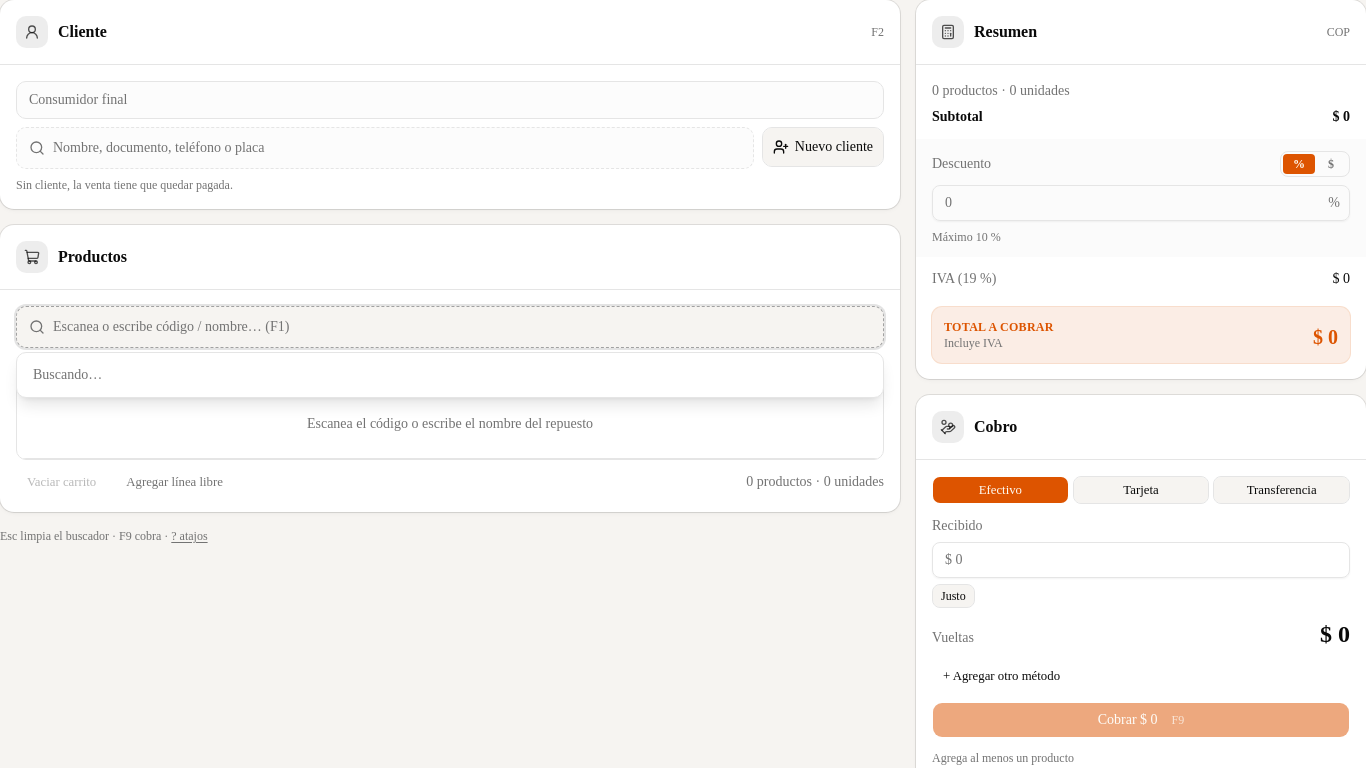
Test case: VenderMostrador › RECEPCION ve su tope y no puede cobrar con un descuento mayor
Type "Filtro" into the dropdown named "Buscar repuesto" at (462, 327), box [53,307,871,347]
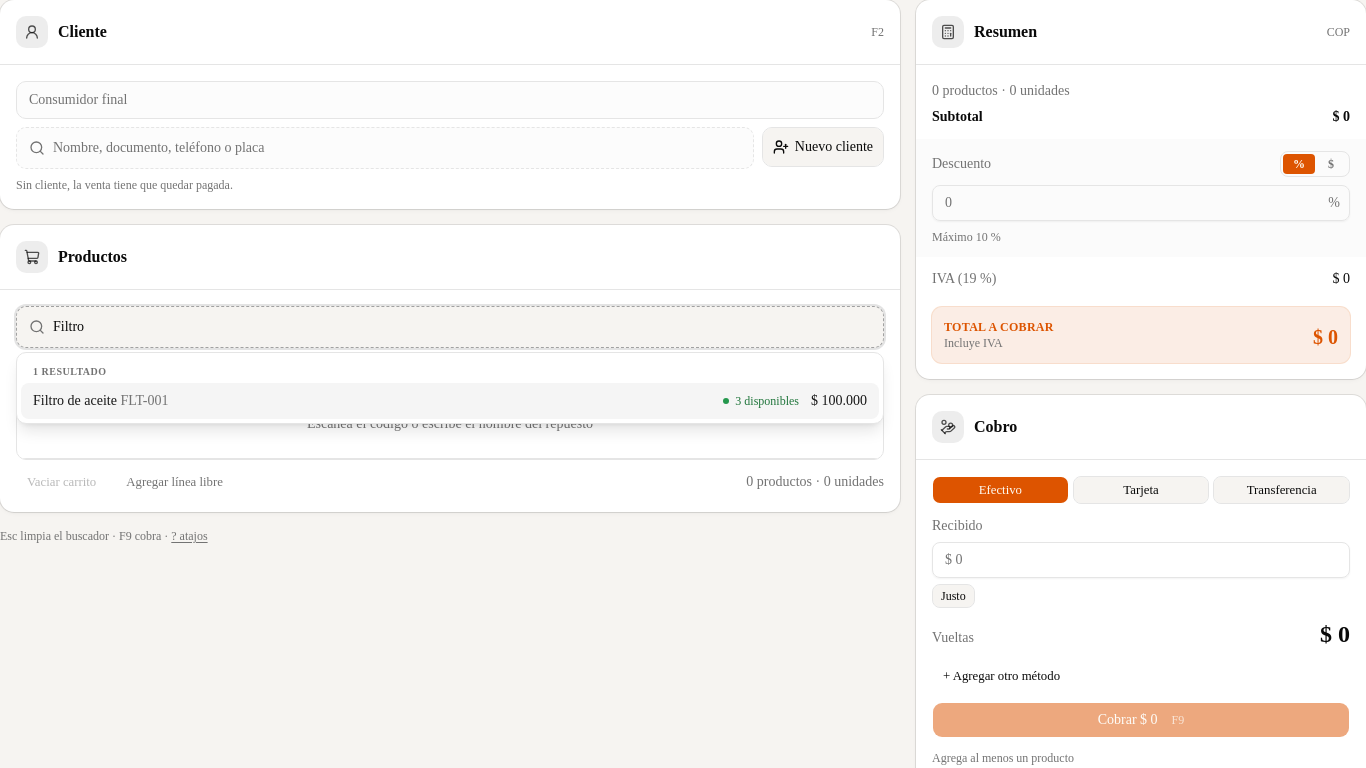
Click the option "Filtro de aceite FLT-001 3 disponibles $ 100.000" at (75, 401), box [21,383,879,419]
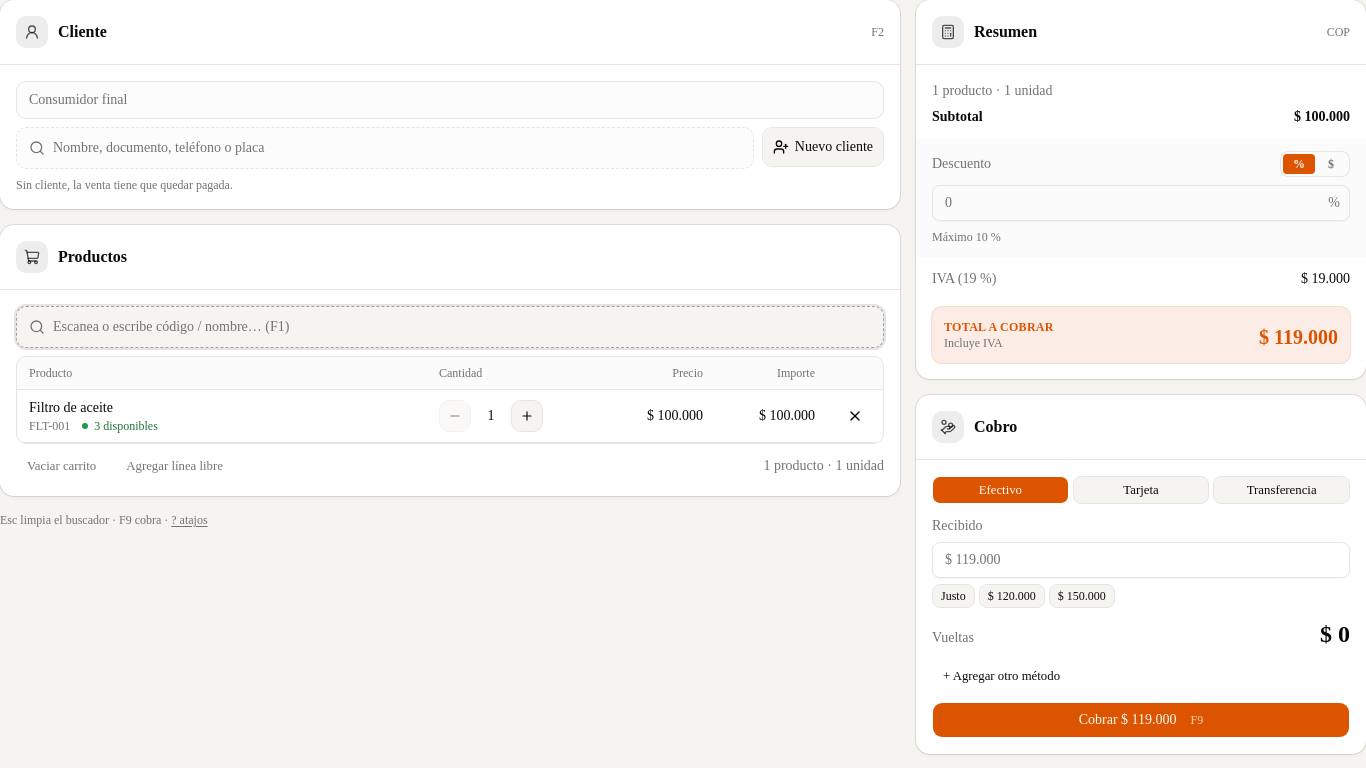
Expected: the text "Máximo 10 %" is shown, [932,230,1001,244]
Type "15" into the number field labelled "Descuento" at (1141, 203), box [932,185,1350,221]
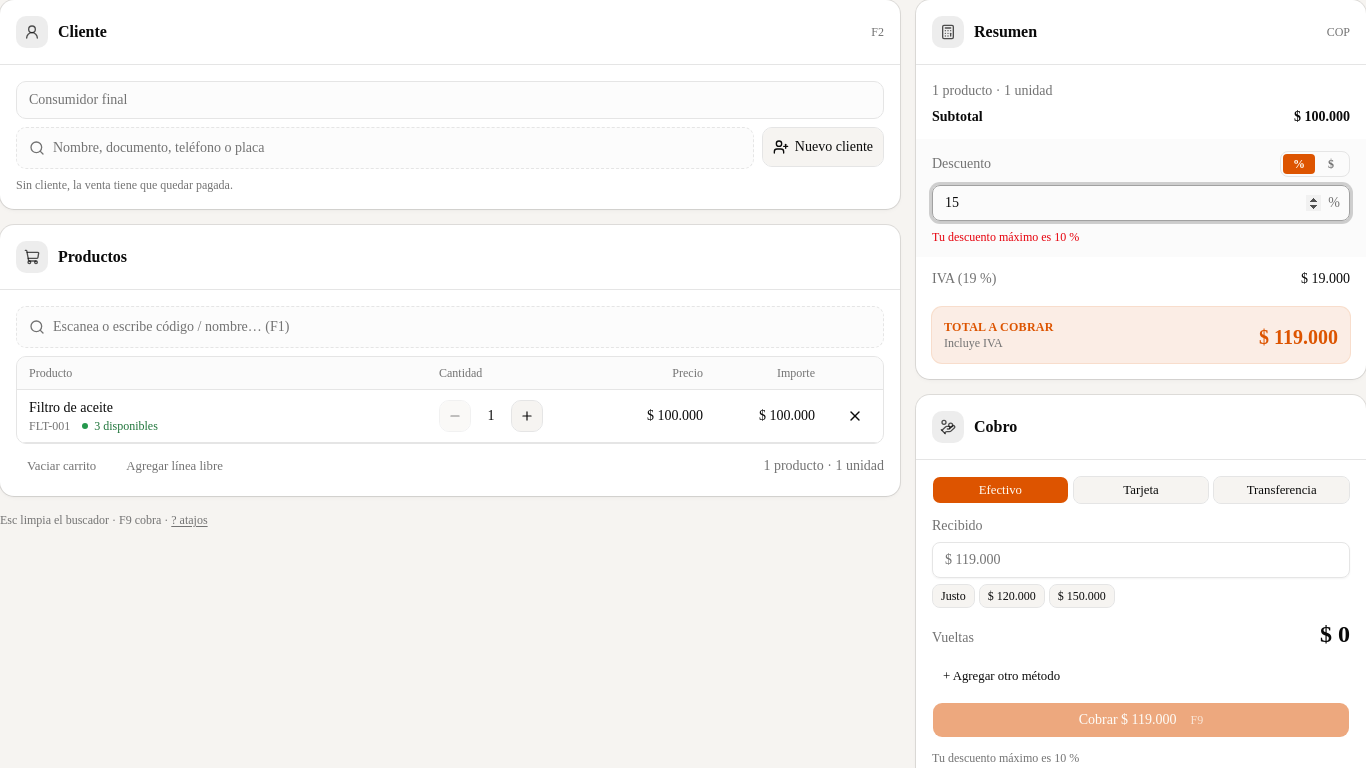
Result: the text "Tu descuento máximo es 10 %" below "Subtotal" is shown at [932,230,1079,244]
Result: the button "Cobrar $ 119.000 F9" is disabled at [932,702,1350,738]
